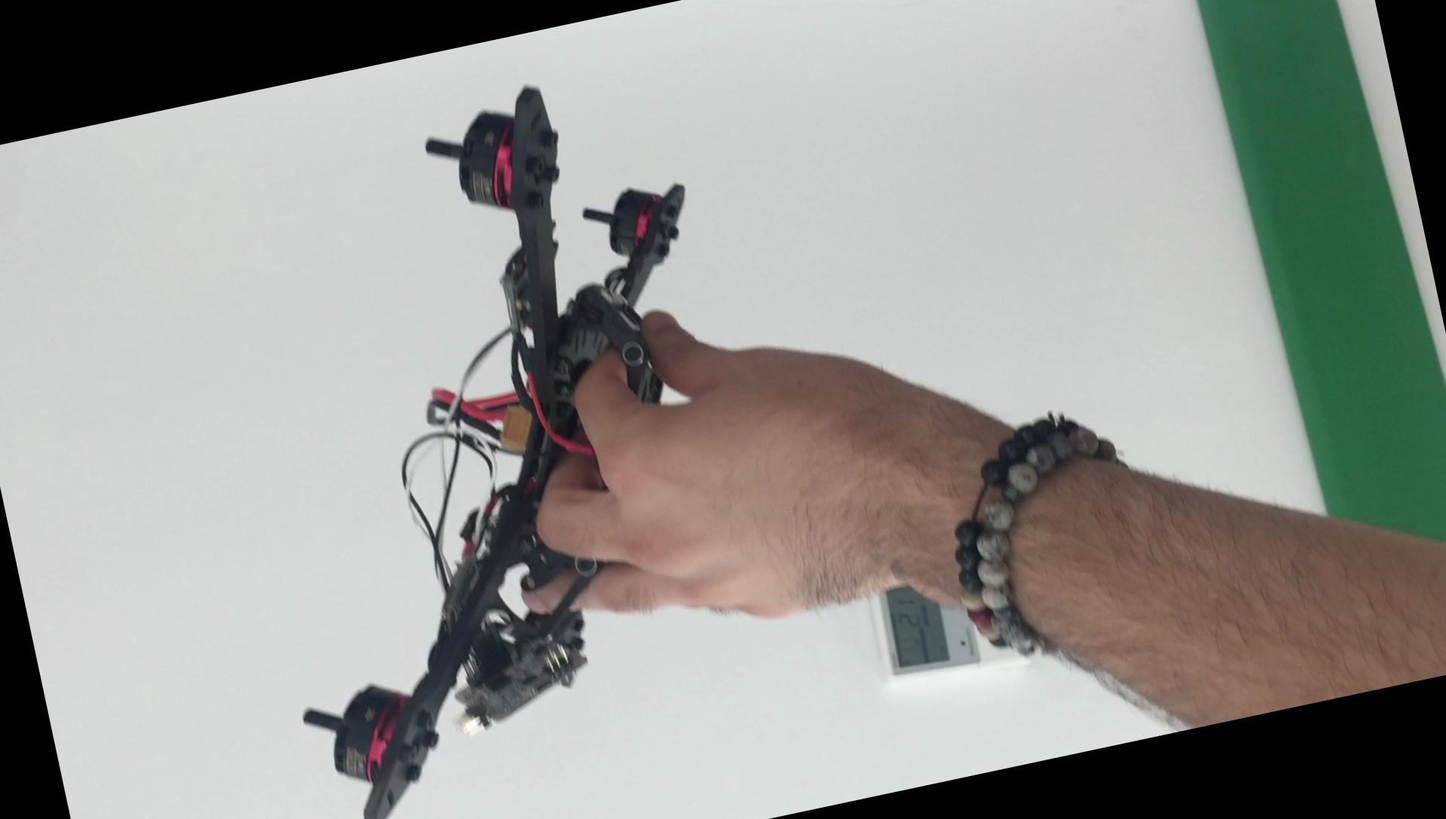drone: (183, 49, 809, 819)
